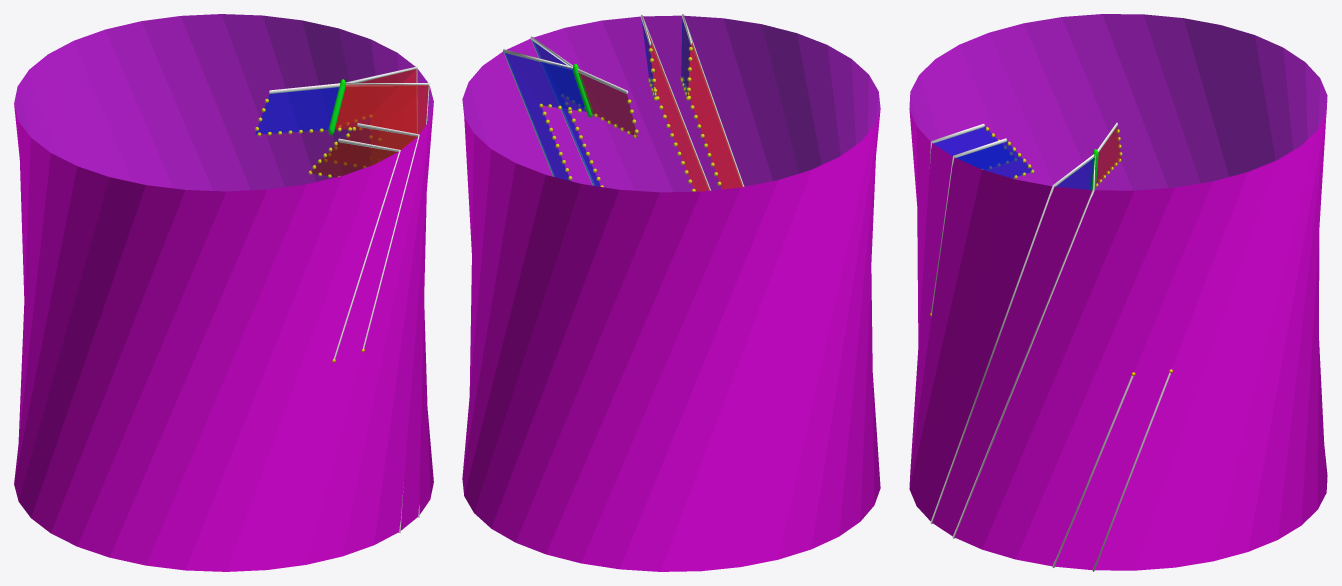
Rendered from cylinder_snake_glb.glb.
3 renders of one model, left to right at view 1: azimuth 30°, elevation 25°; view 2: azimuth 150°, elevation 25°; view 3: azimuth 270°, elevation 25°, orthographic.
Visible parts, largest first — view 1: Circle, fold, boundary, Circle.001; view 2: Circle, fold, boundary, Circle.001; view 3: Circle, boundary, fold.
Part boxes in pixels (left/top/right/bottom): Circle: left=14, top=14, right=433, bottom=571; fold: left=255, top=69, right=428, bottom=177; boundary: left=269, top=66, right=429, bottom=532; Circle.001: left=255, top=98, right=381, bottom=362; Circle: left=462, top=15, right=880, bottom=571; fold: left=504, top=19, right=743, bottom=191; boundary: left=503, top=14, right=744, bottom=190; Circle.001: left=539, top=47, right=721, bottom=191; Circle: left=909, top=14, right=1327, bottom=570; boundary: left=929, top=122, right=1170, bottom=571; fold: left=933, top=126, right=1121, bottom=189.
Size of the model in its own units: 3.99 by 4.12 by 3.99.
